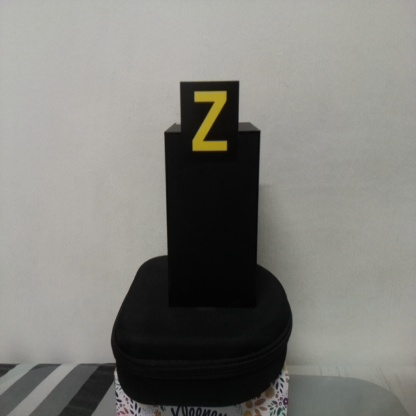id_15: (181, 83, 239, 163)
